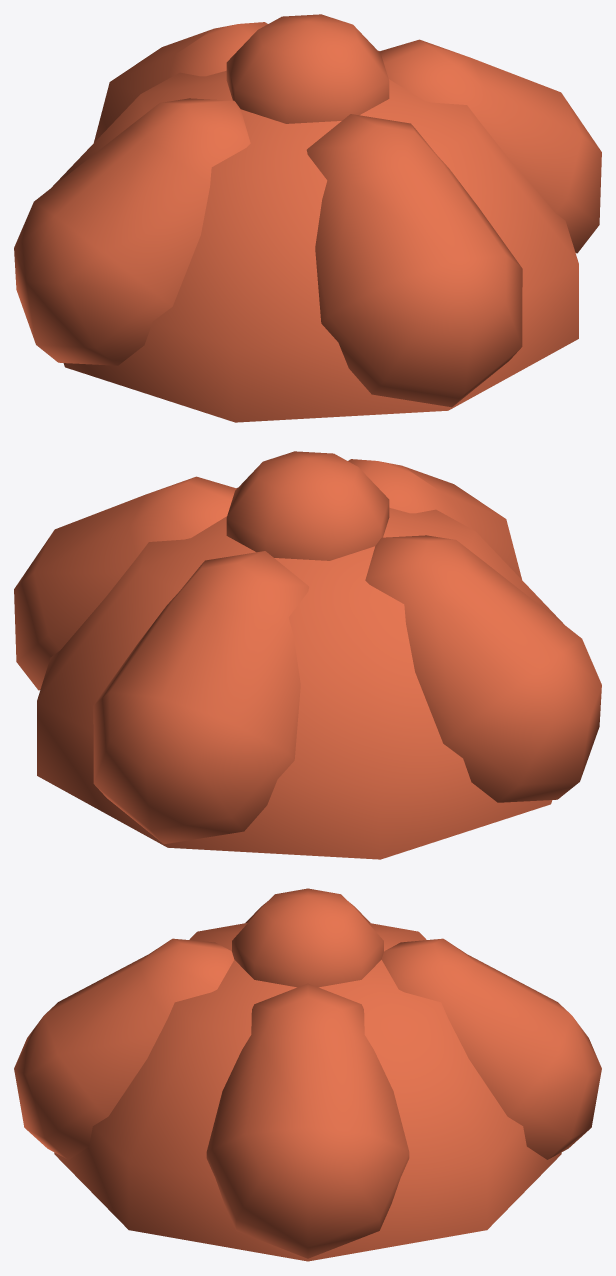
File: pan-de-muerto.glb
3 views of the same model, one above another, from view 1: azimuth 30°, elevation 25°; view 2: azimuth 150°, elevation 25°; view 3: azimuth 270°, elevation 25° (orthographic). The views are drawn at different scales.
Visible parts, largest first — view 1: mergedBlocks(Clone); view 2: mergedBlocks(Clone); view 3: mergedBlocks(Clone).
Part boxes in pixels (x1,y1,x2,y2): mergedBlocks(Clone): (14,14,601,422); mergedBlocks(Clone): (14,451,601,859); mergedBlocks(Clone): (14,888,601,1261).
Bounding box in the file's own units: 1.1 × 0.535 × 1.1.
